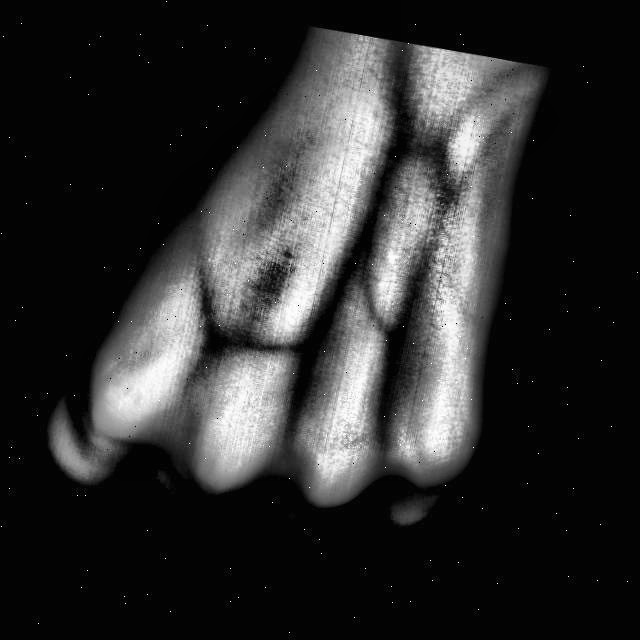Vein: (301, 154, 407, 335)
